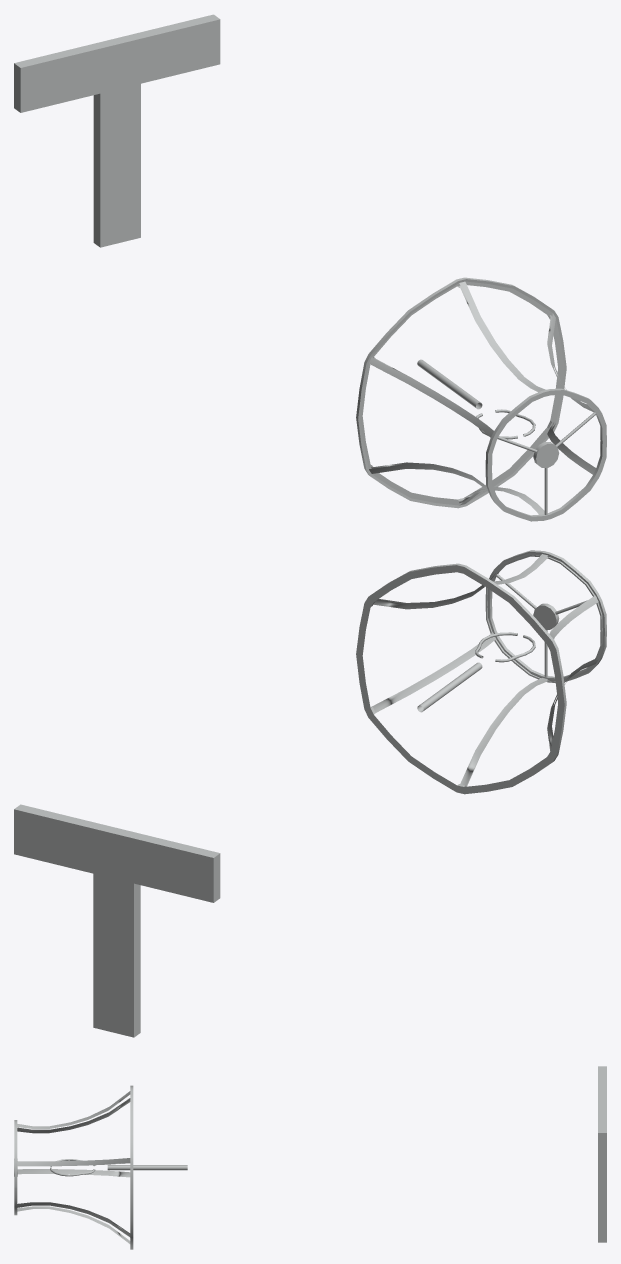
The model's file is MeshFloorLamp_24_0_GeomSubset_1.obj.
The picture shows the model from 3 angles, top to bottom: view 1: azimuth 30°, elevation 25°; view 2: azimuth 150°, elevation 25°; view 3: azimuth 270°, elevation 25°; orthographic projection. The views are drawn at different scales.
Visible parts, largest first — view 1: MeshFloorLamp_24_0_GeomSubset_1; view 2: MeshFloorLamp_24_0_GeomSubset_1; view 3: MeshFloorLamp_24_0_GeomSubset_1.
Part boxes in pixels (left/top/right/bottom): MeshFloorLamp_24_0_GeomSubset_1: left=14, top=14, right=606, bottom=521; MeshFloorLamp_24_0_GeomSubset_1: left=14, top=550, right=606, bottom=1037; MeshFloorLamp_24_0_GeomSubset_1: left=14, top=1066, right=606, bottom=1249.
Bounding box in the file's own units: 0.5542 × 0.5767 × 2.
